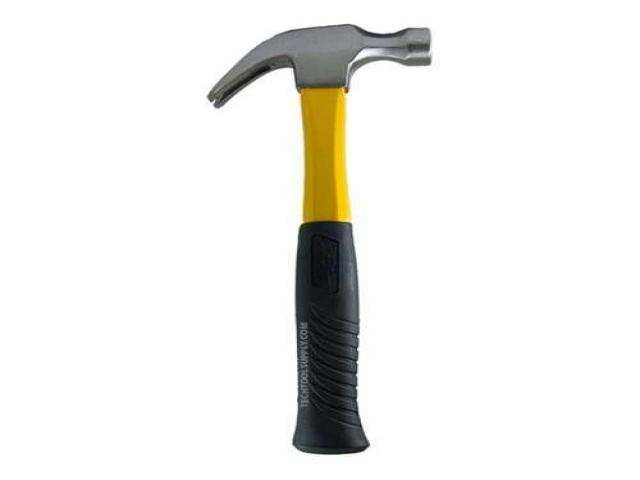hammer: (207, 20, 434, 455)
